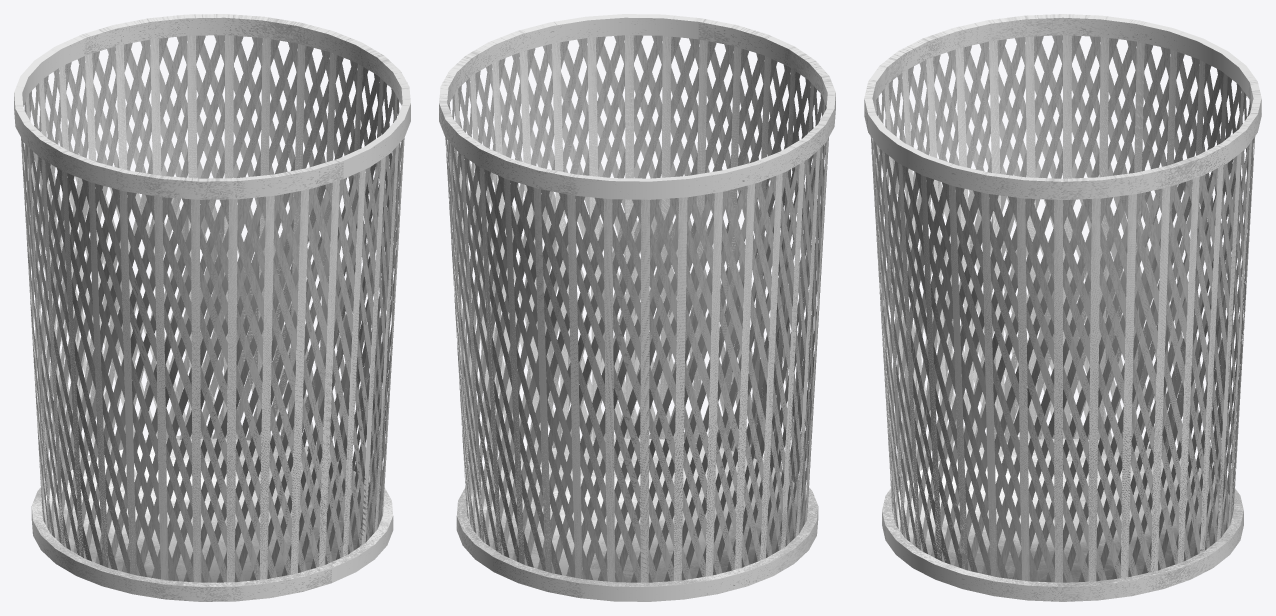
Rendered from Trash Can.fbx.
The picture shows the model from 3 angles, left to right: view 1: azimuth 30°, elevation 25°; view 2: azimuth 150°, elevation 25°; view 3: azimuth 270°, elevation 25°; orthographic projection.
Visible parts, largest first — view 1: Trash Can; view 2: Trash Can; view 3: Trash Can.
Part boxes in pixels (left/top/right/bottom): Trash Can: left=14, top=14, right=410, bottom=601; Trash Can: left=439, top=14, right=835, bottom=601; Trash Can: left=864, top=14, right=1261, bottom=601.
Size of the model in its own units: 47.09 by 55.91 by 47.09.
